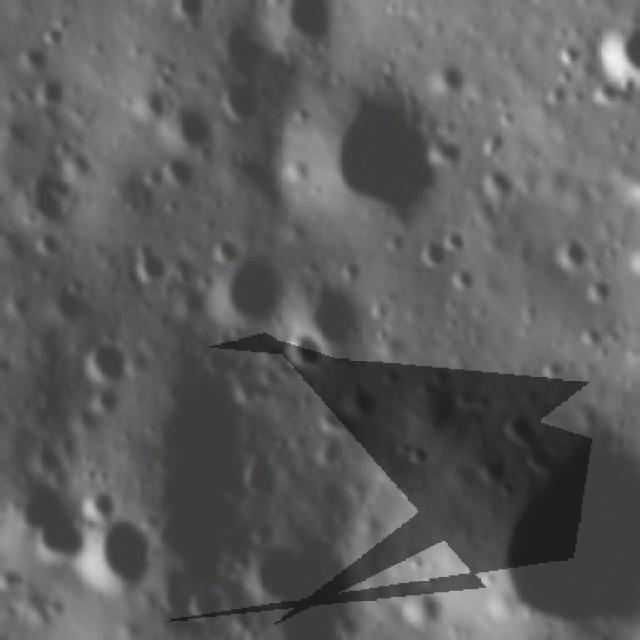crater: (486, 412, 640, 630), (309, 85, 469, 229), (247, 542, 362, 632), (70, 514, 162, 598), (13, 468, 85, 572), (303, 271, 379, 354), (214, 256, 286, 330), (210, 16, 282, 75), (15, 163, 76, 226), (594, 16, 640, 96), (217, 74, 280, 131), (165, 105, 226, 162), (281, 0, 344, 48), (85, 332, 138, 385), (184, 574, 233, 624), (396, 585, 446, 632), (125, 239, 173, 286), (201, 225, 247, 270), (133, 79, 182, 121), (548, 230, 594, 272), (283, 333, 329, 373), (409, 233, 453, 272), (340, 378, 382, 418), (82, 477, 121, 520), (476, 166, 522, 202), (169, 0, 222, 29), (24, 226, 70, 259), (14, 35, 51, 74), (35, 73, 70, 107), (90, 381, 125, 414), (445, 263, 480, 295), (586, 278, 619, 305), (620, 235, 640, 279), (554, 44, 584, 68), (627, 173, 640, 208), (514, 0, 574, 2)
